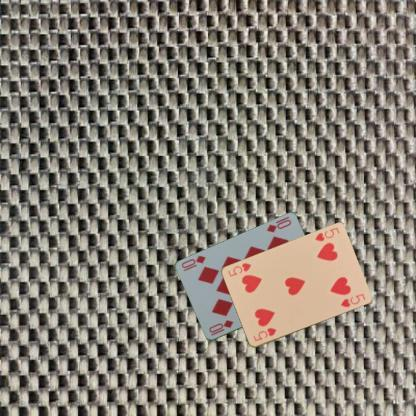10d: (206, 317, 235, 337), (263, 216, 292, 235)
5h: (250, 325, 278, 343), (312, 225, 340, 243)
